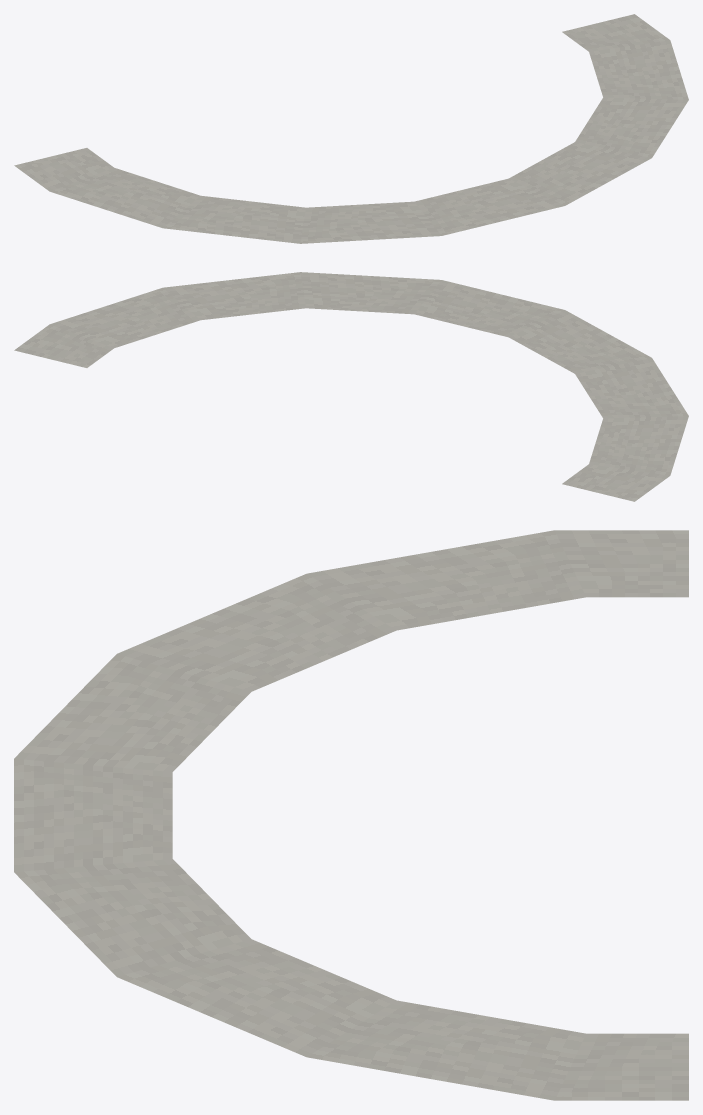
The model's file is mh_ring_top_cut.obj.
The picture shows the model from 3 angles, top to bottom: view 1: azimuth 30°, elevation 25°; view 2: azimuth 150°, elevation 25°; view 3: azimuth 270°, elevation 25°; orthographic projection. The views are drawn at different scales.
Parts seen in each view (by area): view 1: mh_ring_top_cut; view 2: mh_ring_top_cut; view 3: mh_ring_top_cut.
Part boxes in pixels (x1,y1,x2,y2): mh_ring_top_cut: [14, 14, 688, 243]; mh_ring_top_cut: [14, 272, 688, 501]; mh_ring_top_cut: [14, 530, 688, 1100].
Size of the model in its own units: 0.9808 by 0 by 0.4904.
